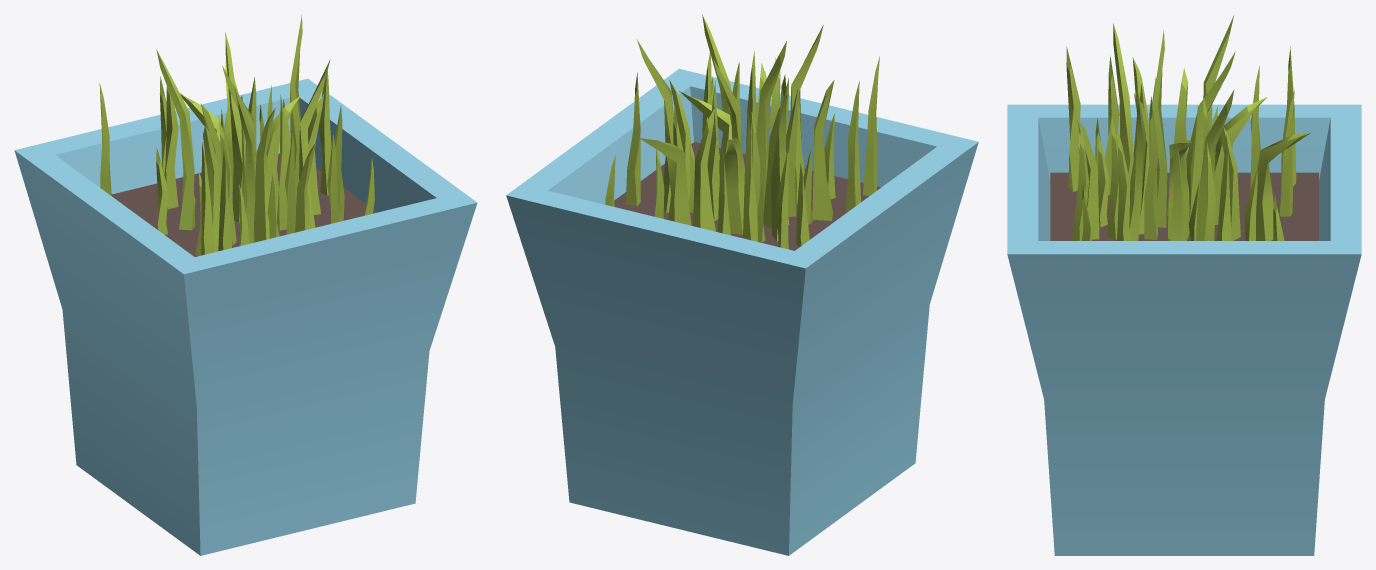
The model's file is plant01_03.gltf.
The picture shows the model from 3 angles, left to right: view 1: azimuth 30°, elevation 25°; view 2: azimuth 150°, elevation 25°; view 3: azimuth 270°, elevation 25°; orthographic projection. The views are drawn at different scales.
Visible parts, largest first — view 1: plant01_stage01:pot.001, plant01_stage01:dirt, pCube28, plant01_stage02:pCube4, pCube3, pCube9, pCube30, pCube11, pCube24, pCube10, plant01_stage02:pCube5, pCube22 (+11 smaller); view 2: plant01_stage01:pot.001, plant01_stage01:dirt, pCube30, pCube25, plant01_stage02:pCube7, pCube2, plant01_stage02:pCube3, pCube28, pCube31, pCube22, pCube21, pCube24 (+13 smaller); view 3: plant01_stage01:pot.001, plant01_stage01:dirt, pCube25, plant01_stage02:pCube3, pCube10, pCube24, plant01_stage02:pCube5, pCube9, pCube3, pCube31, pCube2, pCube26 (+17 smaller).
Part boxes in pixels (<box>): plant01_stage01:pot.001: <box>14,78,477,555</box>; plant01_stage01:dirt: <box>111,153,377,256</box>; pCube28: <box>156,49,195,230</box>; plant01_stage02:pCube4: <box>254,108,275,241</box>; pCube3: <box>225,32,242,222</box>; pCube9: <box>234,85,255,243</box>; pCube30: <box>195,125,220,255</box>; pCube11: <box>164,86,178,209</box>; pCube24: <box>290,15,302,204</box>; pCube10: <box>299,59,330,228</box>; plant01_stage02:pCube5: <box>277,94,288,230</box>; pCube22: <box>318,71,331,195</box>; plant01_stage01:pot.001: <box>506,68,978,555</box>; plant01_stage01:dirt: <box>614,142,880,250</box>; pCube30: <box>812,80,834,220</box>; pCube25: <box>639,138,691,225</box>; plant01_stage02:pCube7: <box>693,109,715,231</box>; pCube2: <box>725,138,744,234</box>; plant01_stage02:pCube3: <box>756,41,786,213</box>; pCube28: <box>771,74,786,241</box>; pCube31: <box>863,56,879,195</box>; pCube22: <box>626,72,640,206</box>; pCube21: <box>845,81,860,211</box>; pCube24: <box>637,39,673,212</box>; plant01_stage01:pot.001: <box>1007,104,1361,555</box>; plant01_stage01:dirt: <box>1050,172,1318,240</box>; pCube25: <box>1256,133,1310,240</box>; plant01_stage02:pCube3: <box>1152,30,1167,227</box>; pCube10: <box>1129,86,1146,240</box>; pCube24: <box>1196,89,1234,240</box>; plant01_stage02:pCube5: <box>1144,96,1158,239</box>; pCube9: <box>1113,23,1133,181</box>; pCube3: <box>1190,51,1235,217</box>; pCube31: <box>1066,46,1080,191</box>; pCube2: <box>1213,97,1267,224</box>; pCube26: <box>1117,129,1130,240</box>.
Bounding box in the file's own units: 0.0137 × 0.0194 × 0.0137.
1 material, 1 textured.
